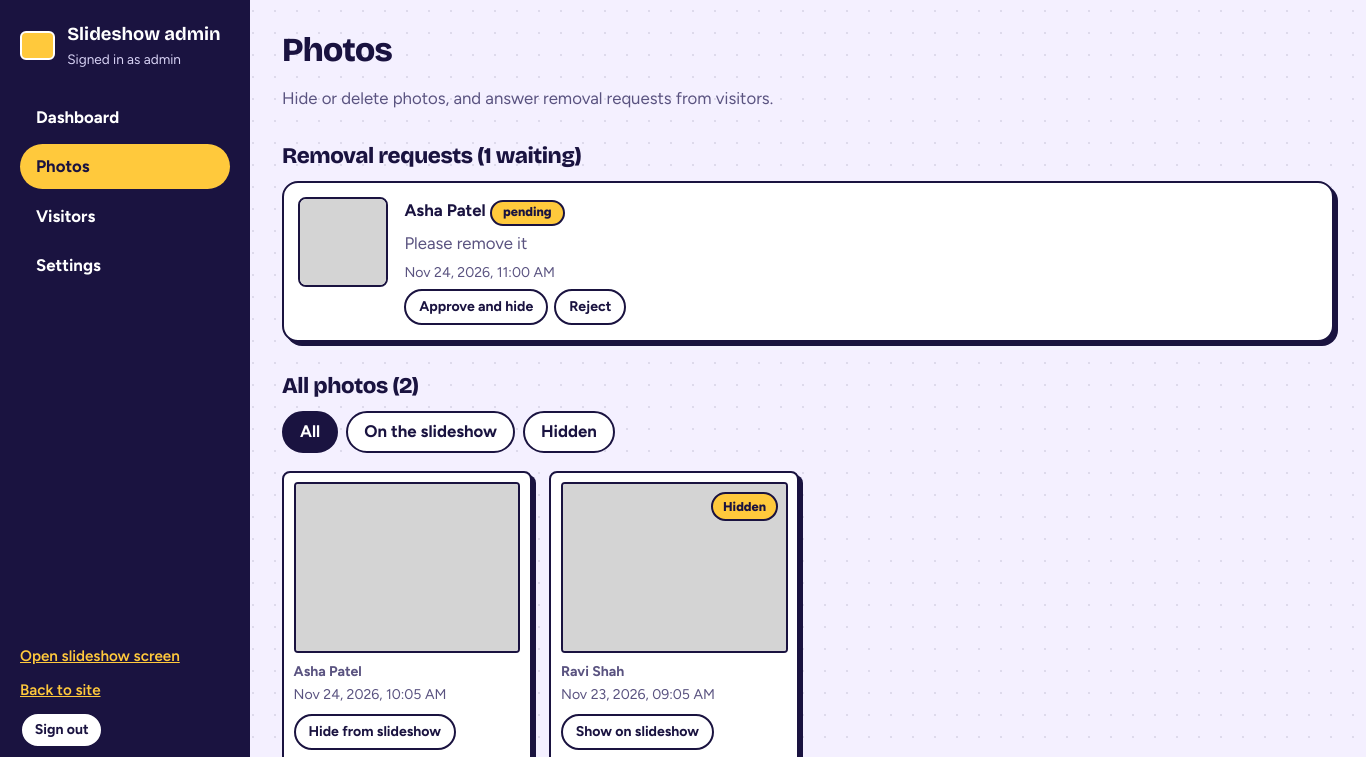
Test case: Admin photos and removal requests › hides a photo from the slideshow
This screenshot has width=1366, height=757.
What coordinates should you click on to do the following:
click the button with aria-label "Hide photo by Asha Patel"
I would click on:
 (375, 732)
Its box is x1=294 y1=714 x2=456 y2=750.
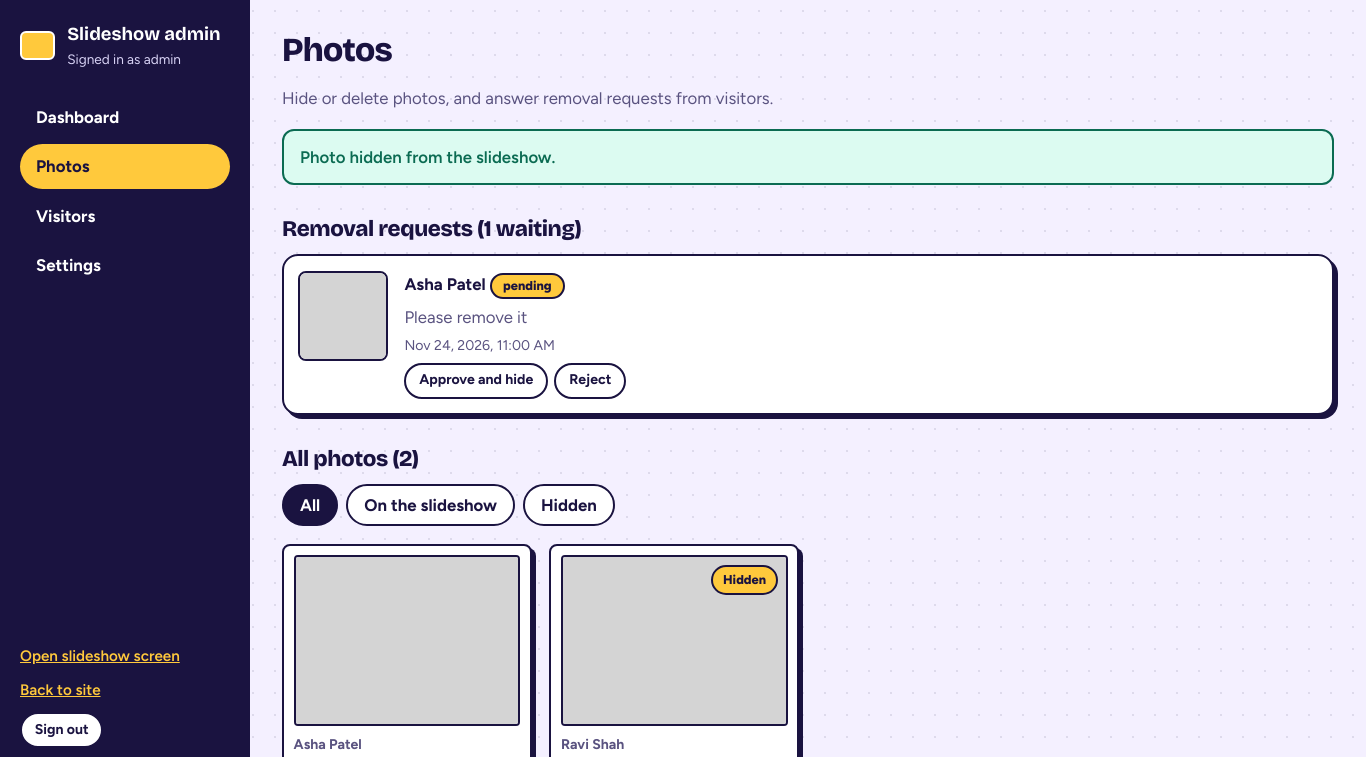
Check: the text "Photo hidden from the slideshow." is shown, box x1=282 y1=129 x2=1334 y2=185
